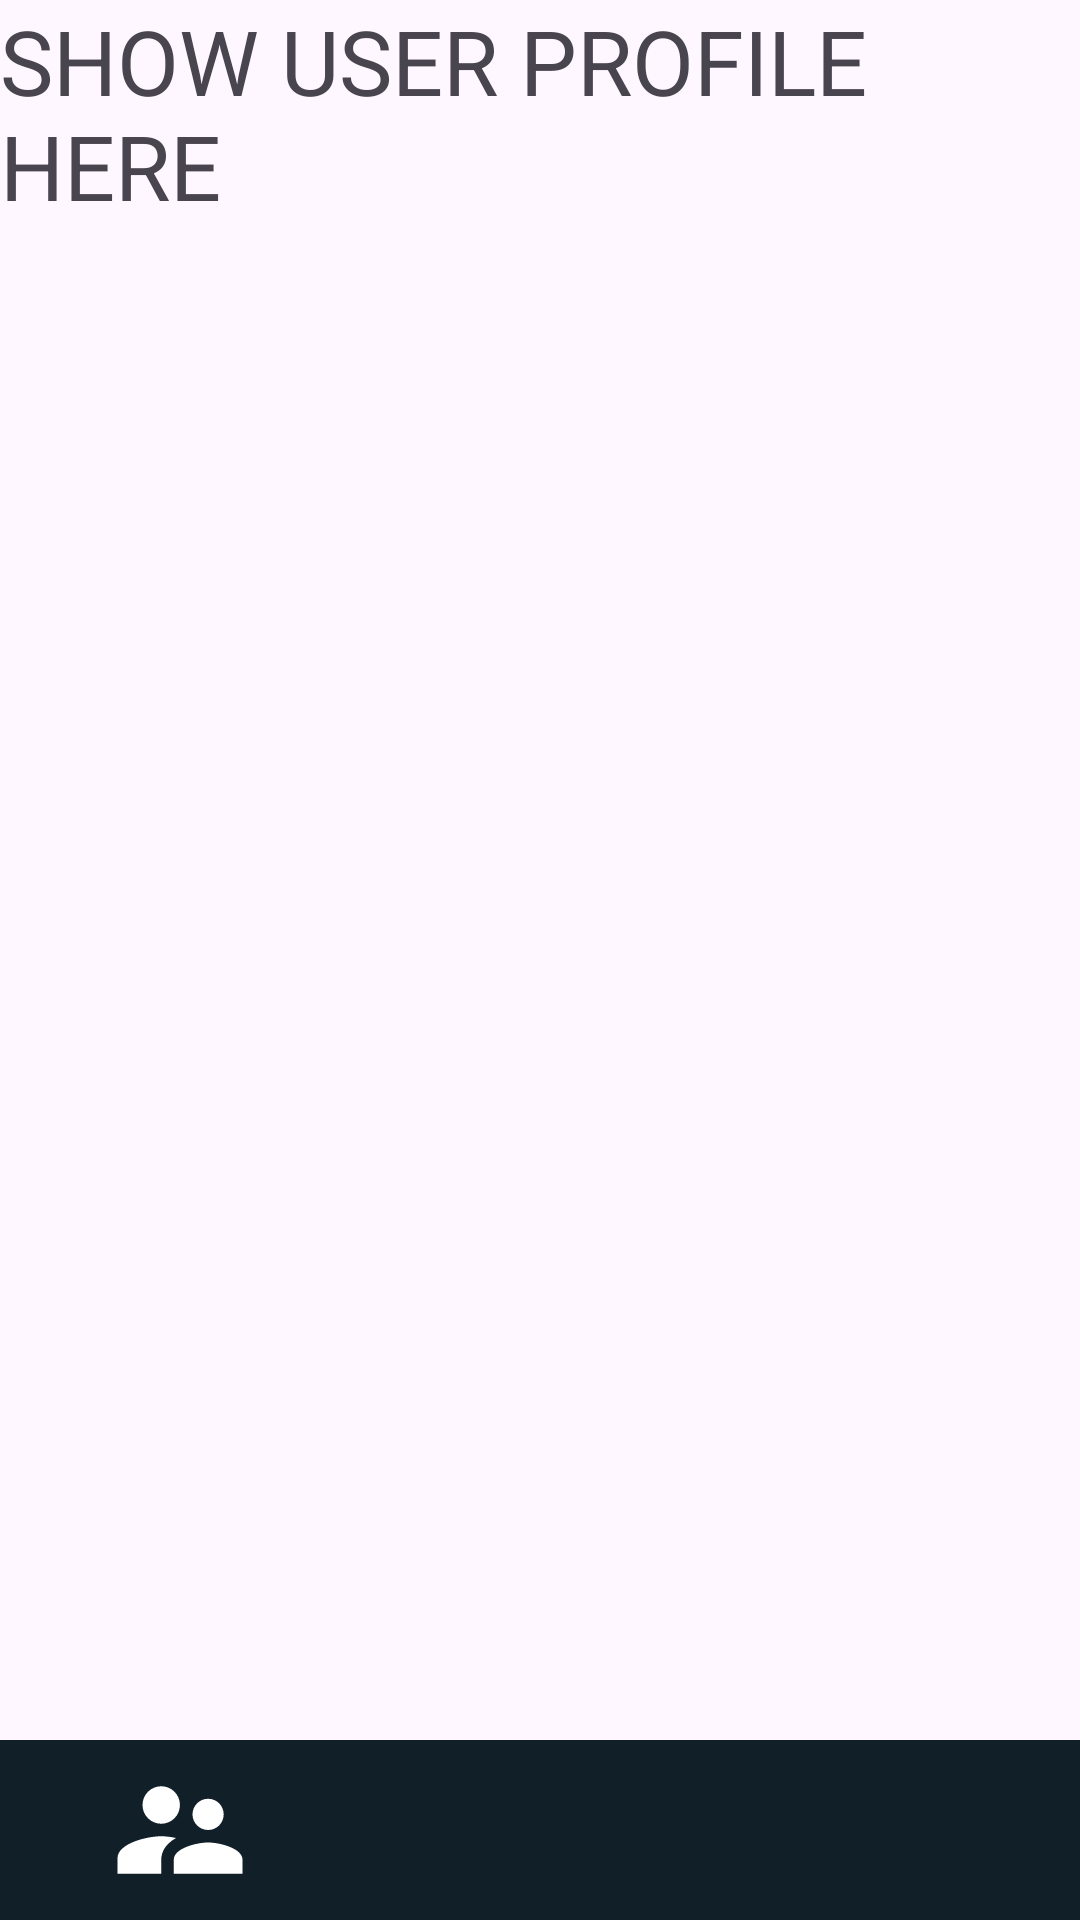

Icons on this 1080 x 1920 Android screen, each with its box as (x1, y1, x2, y2):
supervisor account: (117, 1786, 243, 1874)
